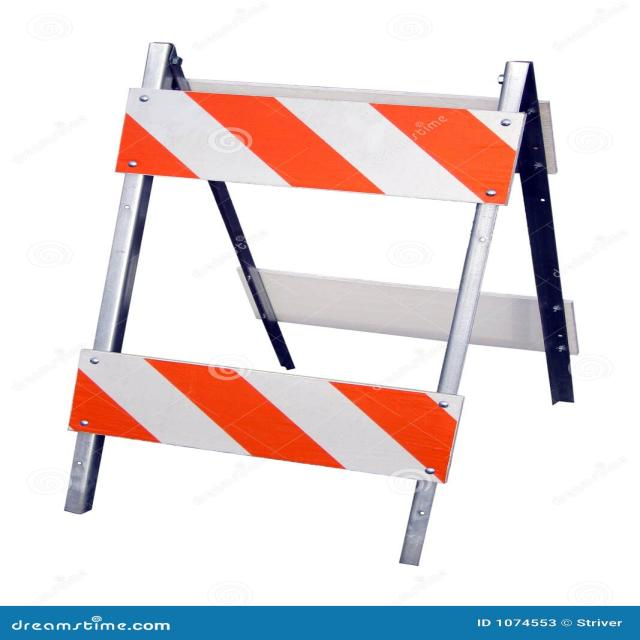cone: (63, 42, 578, 564)
